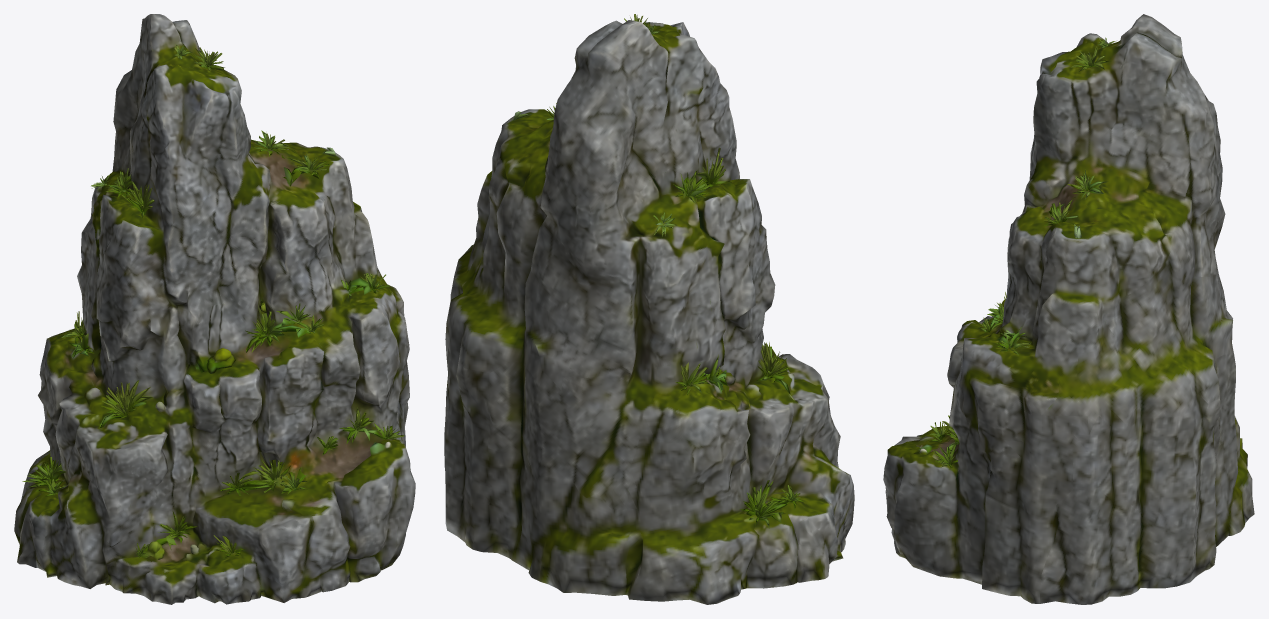
The model's file is Meshy_AI_Rock_Formation_Top_Right_20261104_texture.fbx.
3 views of the same model, side by side, from view 1: azimuth 30°, elevation 25°; view 2: azimuth 150°, elevation 25°; view 3: azimuth 270°, elevation 25° (orthographic). The views are drawn at different scales.
Visible parts, largest first — view 1: geometry_0; view 2: geometry_0; view 3: geometry_0.
Part boxes in pixels (bbox=[...]): geometry_0: bbox=[14, 14, 415, 604]; geometry_0: bbox=[444, 14, 854, 604]; geometry_0: bbox=[883, 14, 1254, 604].
Bounding box in the file's own units: 72.85 × 95.26 × 65.09.
1 material, 1 textured.
